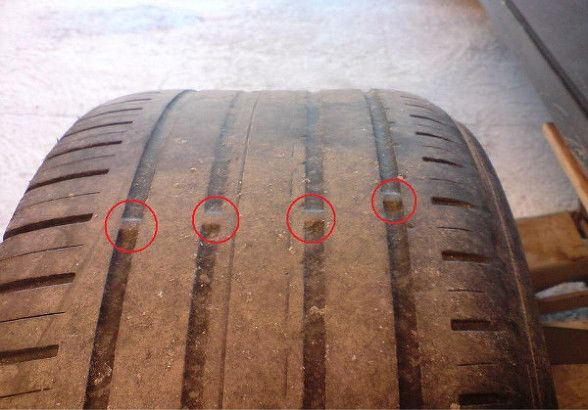bad_condition: (3, 92, 530, 405)
